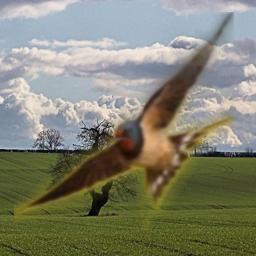Swallow: (14, 12, 234, 230)
